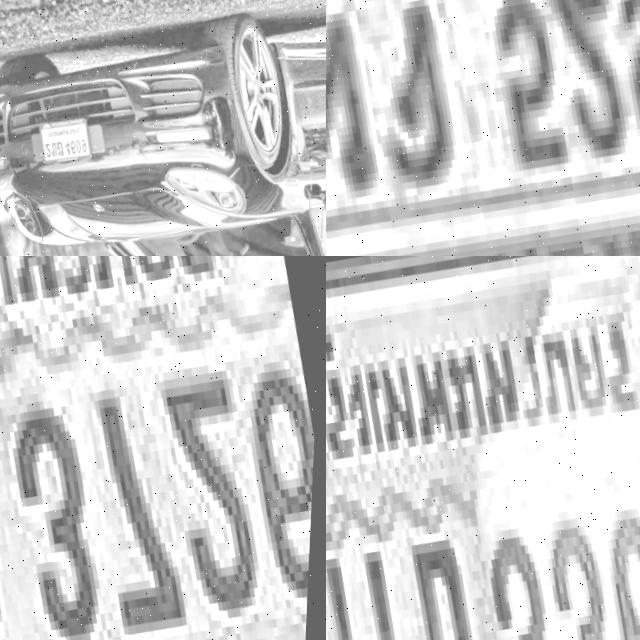license-plate: (0, 256, 326, 640), (326, 256, 640, 640), (326, 0, 640, 256), (36, 115, 96, 170)
